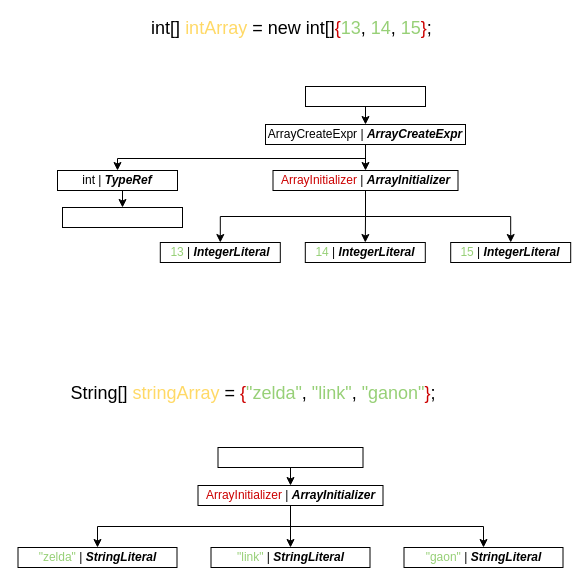
Some shapes in this 588 by 585 pixel diagram are drawn without their labels. Each missing label, with the centre of its shape:
"[] | RankSpecifier" goes at pixel 122 217.
"intArray | Declarator" goes at pixel 365 96.
"stringArray | Declarator" goes at pixel 290 457.
